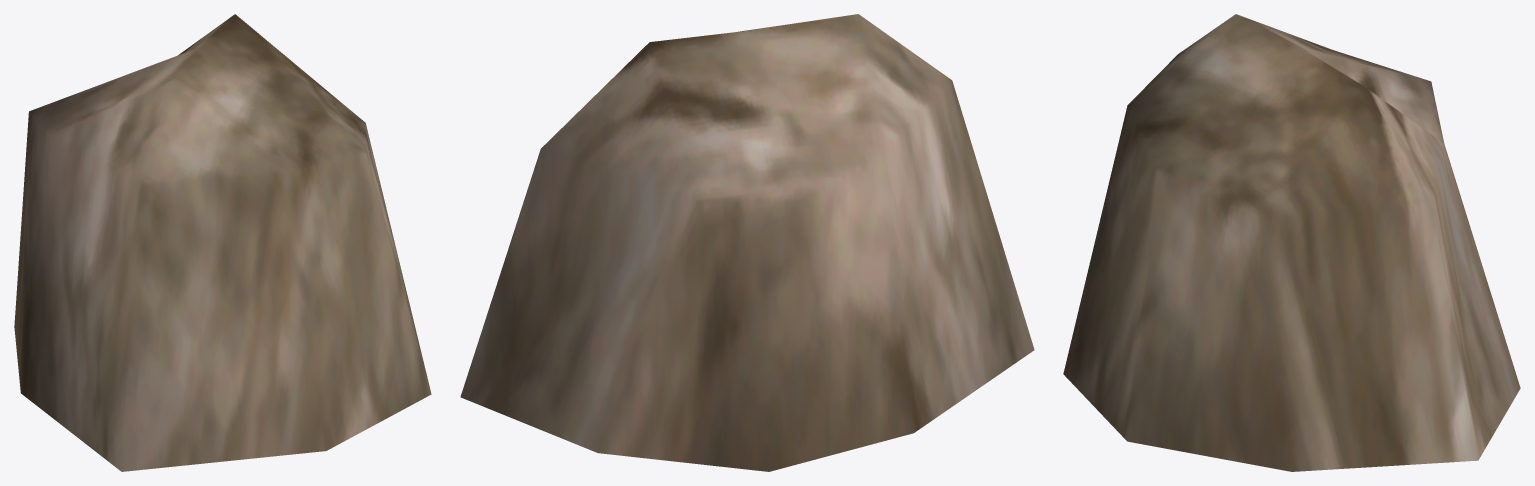
The model's file is OVERHILL_A_01_ROCK58.fbx.
3 renders of one model, left to right at view 1: azimuth 30°, elevation 25°; view 2: azimuth 150°, elevation 25°; view 3: azimuth 270°, elevation 25°, orthographic. The views are drawn at different scales.
Visible parts, largest first — view 1: OVERHILL_A_01_ROCK58; view 2: OVERHILL_A_01_ROCK58; view 3: OVERHILL_A_01_ROCK58.
Boxes of the visible parts, x1,y1,x2,y2 form: OVERHILL_A_01_ROCK58: (14, 14, 431, 471); OVERHILL_A_01_ROCK58: (460, 14, 1034, 471); OVERHILL_A_01_ROCK58: (1063, 14, 1520, 471).
Size of the model in its own units: 2706 by 2238 by 2844.
Materials: 1 (1 with a texture image).
